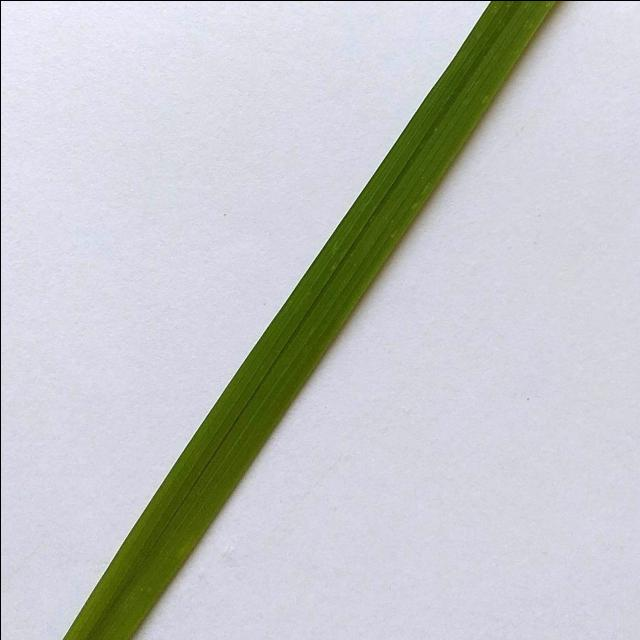healthy: (57, 0, 580, 640)
